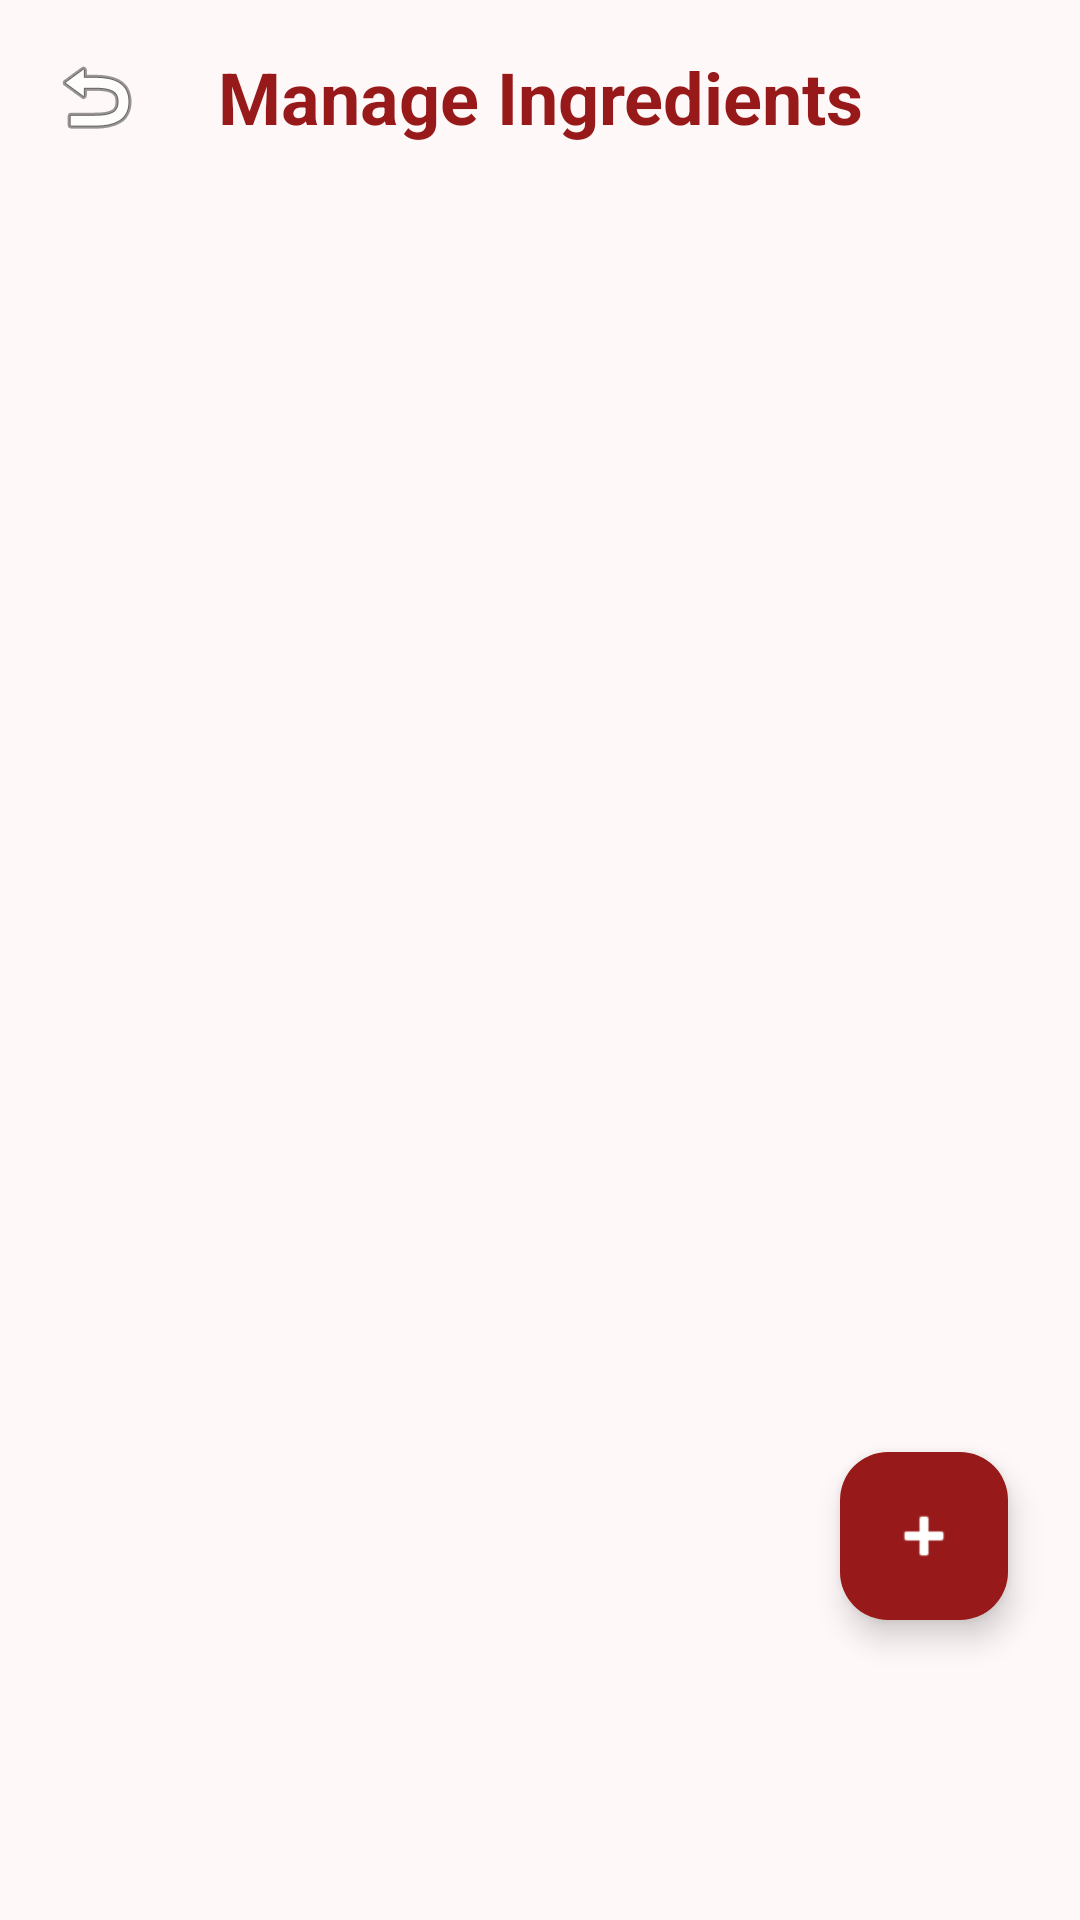

Screen size 1080px x 1920px. Icon name, then its box in pixels as (x1, y1, x2, y2):
Add Ingredient: (840, 1452, 1008, 1620)
Back: (63, 66, 132, 129)
